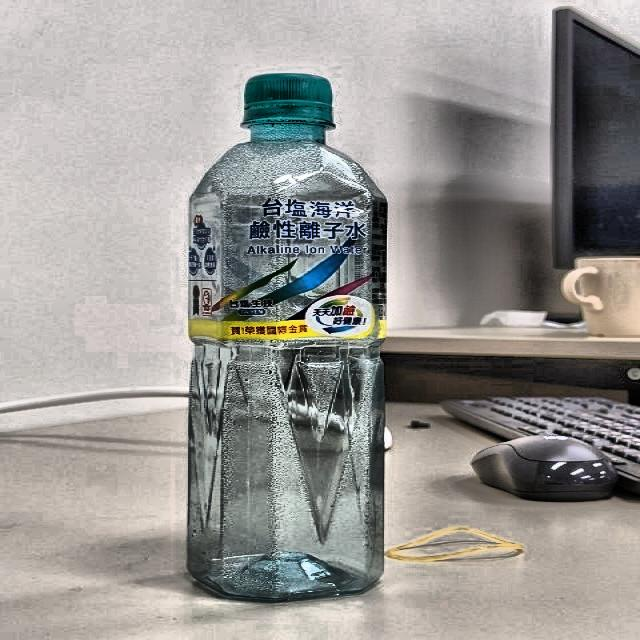plastic: (163, 47, 405, 612)
